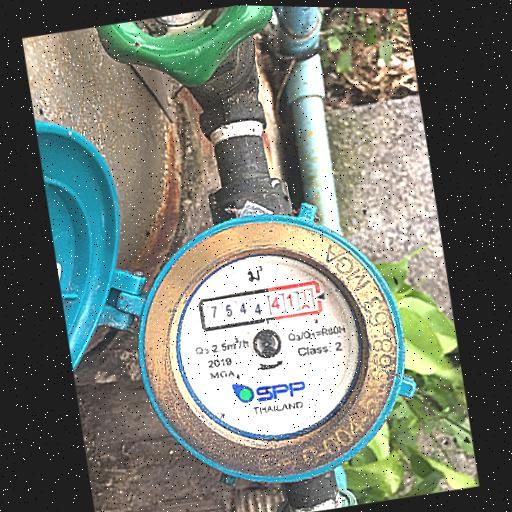1: (283, 291, 299, 313), (298, 289, 313, 311)
4: (268, 294, 284, 315), (237, 297, 252, 319), (251, 296, 266, 318)
5: (222, 301, 237, 321)
7: (207, 303, 222, 325)
border_water_meter_number: (196, 277, 324, 335)
